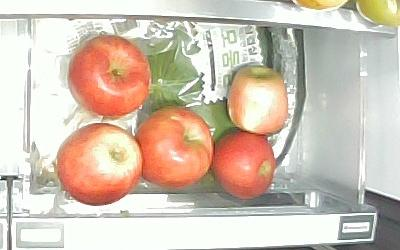apple: (56, 122, 143, 206), (67, 36, 151, 118), (138, 106, 214, 187), (227, 63, 290, 135), (214, 131, 277, 201)
